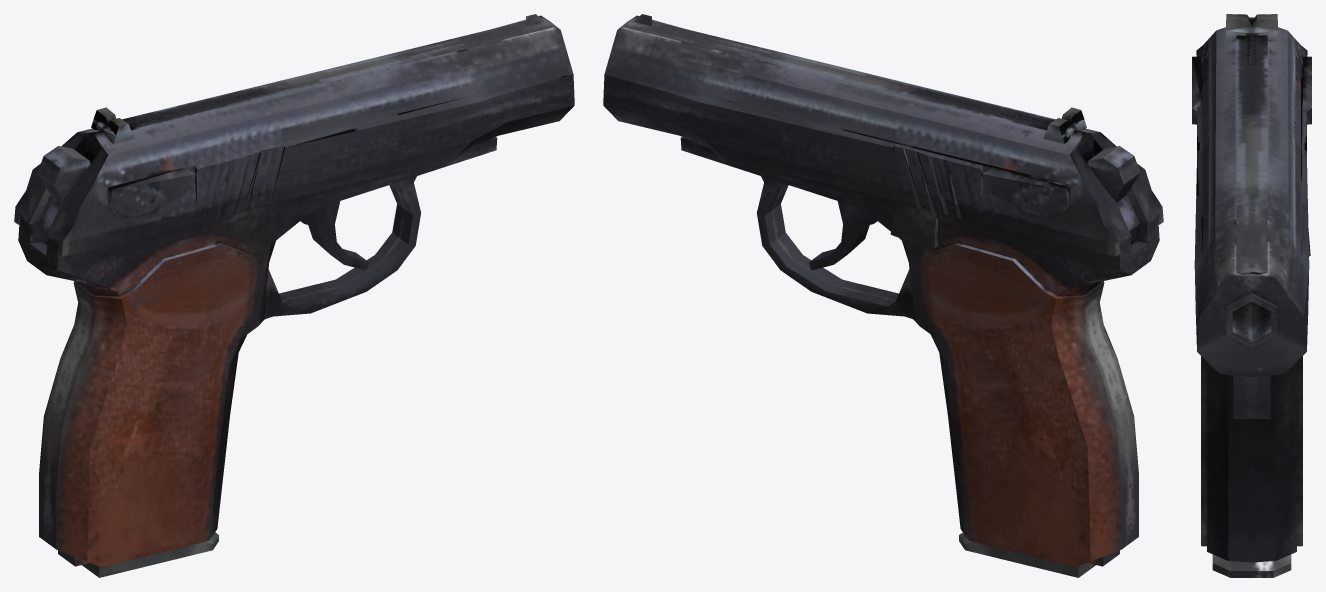
File: pistol3.fbx
3 views of the same model, side by side, from view 1: azimuth 30°, elevation 25°; view 2: azimuth 150°, elevation 25°; view 3: azimuth 270°, elevation 25° (orthographic). The views are drawn at different scales.
Parts seen in each view (by area): view 1: ствол, затвор, курок, магазин; view 2: ствол, затвор, курок, магазин; view 3: затвор, ствол, магазин.
Boxes of the visible parts, left/top/right/bottom form: ствол: left=18, top=137, right=497, bottom=566; затвор: left=14, top=14, right=574, bottom=256; курок: left=300, top=201, right=368, bottom=270; магазин: left=82, top=532, right=218, bottom=577; ствол: left=680, top=137, right=1159, bottom=566; затвор: left=603, top=14, right=1163, bottom=256; курок: left=809, top=201, right=877, bottom=270; магазин: left=959, top=532, right=1095, bottom=577; затвор: left=1192, top=14, right=1311, bottom=377; ствол: left=1201, top=228, right=1310, bottom=562; магазин: left=1212, top=554, right=1291, bottom=577.
Size of the model in its own units: 21.17 by 17.19 by 3.68.
